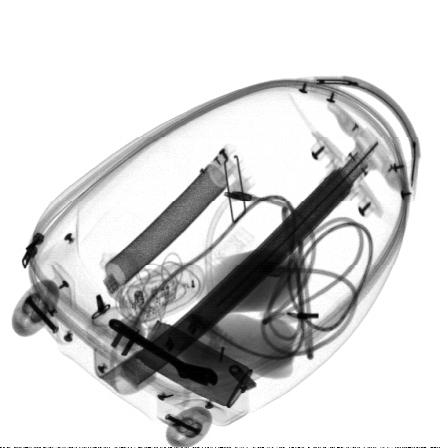Wrench: (108, 318, 218, 386)
